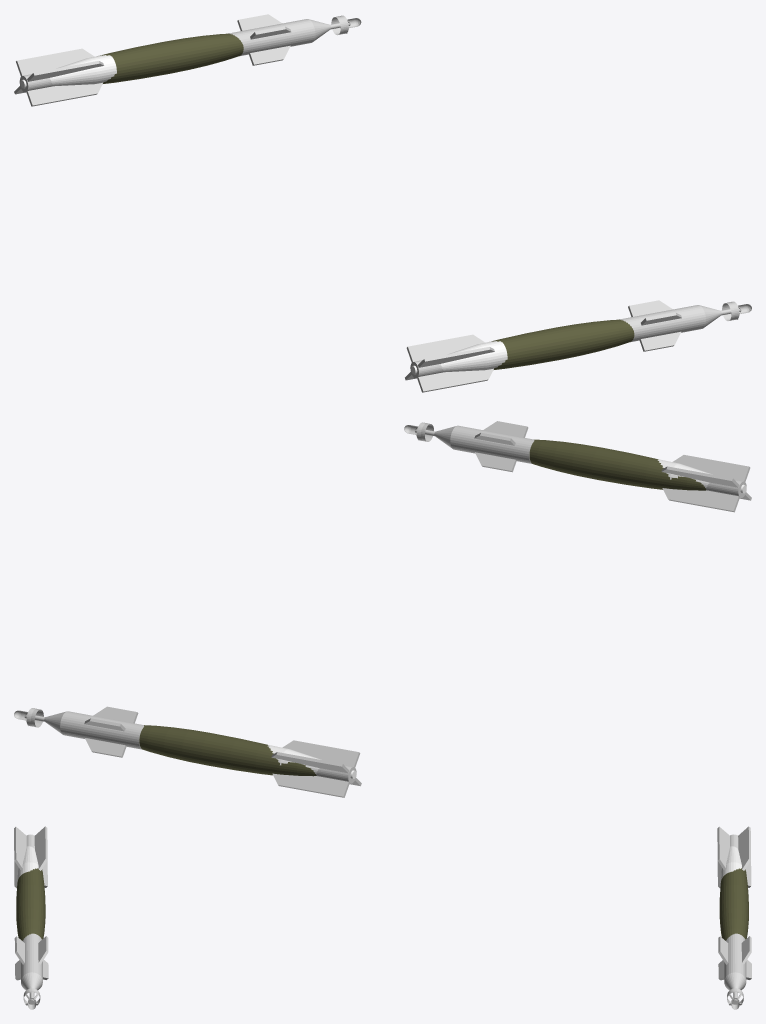
Rendered from f35bgbu1223.glb.
3 views of the same model, one above another, from view 1: azimuth 30°, elevation 25°; view 2: azimuth 150°, elevation 25°; view 3: azimuth 270°, elevation 25° (orthographic). The views are drawn at different scales.
Parts seen in each view (by area): view 1: 円柱.006, 円柱.004; view 2: 円柱.006, 円柱.004; view 3: 円柱.006, 円柱.004.
Part boxes in pixels (bbox=[...]): 円柱.006: bbox=[14, 14, 361, 106]; 円柱.004: bbox=[405, 300, 751, 392]; 円柱.006: bbox=[14, 706, 361, 797]; 円柱.004: bbox=[404, 421, 751, 512]; 円柱.006: bbox=[717, 826, 751, 1009]; 円柱.004: bbox=[14, 826, 48, 1009].
Bounding box in the file's own units: 3.69 × 0.5113 × 7.7.
2 materials, 1 textured.
